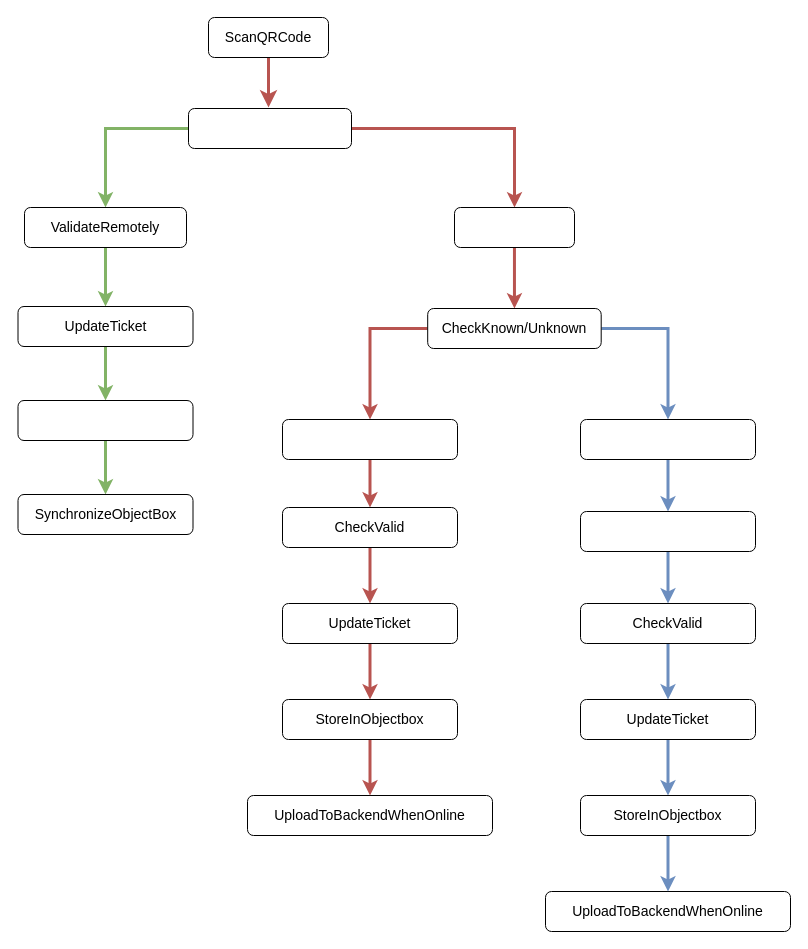
Some shapes in this 808 by 949 pixel diagram are drawn without their labels. Here are the shapes that lost their labels. From the top down, the centre of each, then its label:
At (x=270, y=128): "OnlineOfflineFunction".
At (x=514, y=227): "ValidateOffline".
At (x=105, y=420): "UpdateBackend".
At (x=370, y=439): "KnownTicket".
At (x=668, y=439): "UnknownTicket".
At (x=668, y=531): "CheckSignature".
